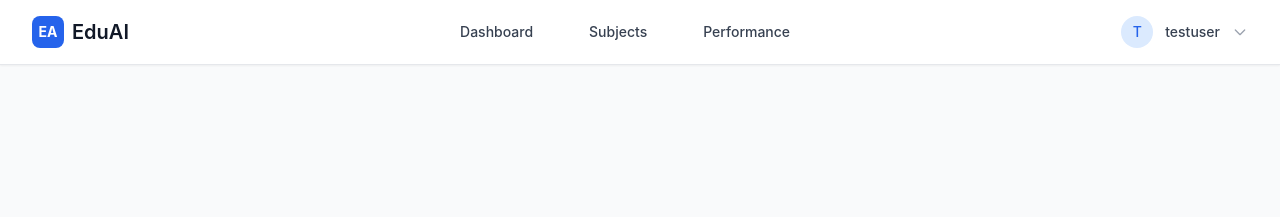
Test: Header › opens user menu when user avatar is clicked
The image size is (1280, 217).
What coordinates should you click on to do the following:
click the button "T testuser"
I would click on:
 (1185, 32)
Its box is x1=1121 y1=16 x2=1248 y2=48.
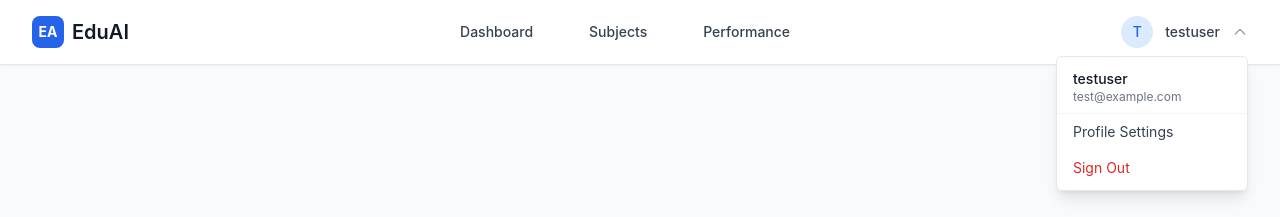
Now the text "test@example.com" is shown, box x1=1073 y1=89 x2=1182 y2=104
Now the link "Profile Settings" is shown, box x1=1073 y1=123 x2=1173 y2=140
Now the button "Sign Out" is shown, box x1=1057 y1=150 x2=1247 y2=186
